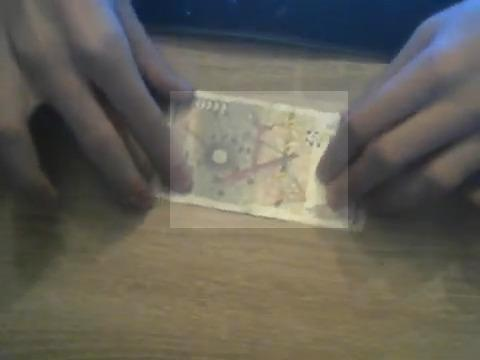10leva: (170, 91, 348, 228)
